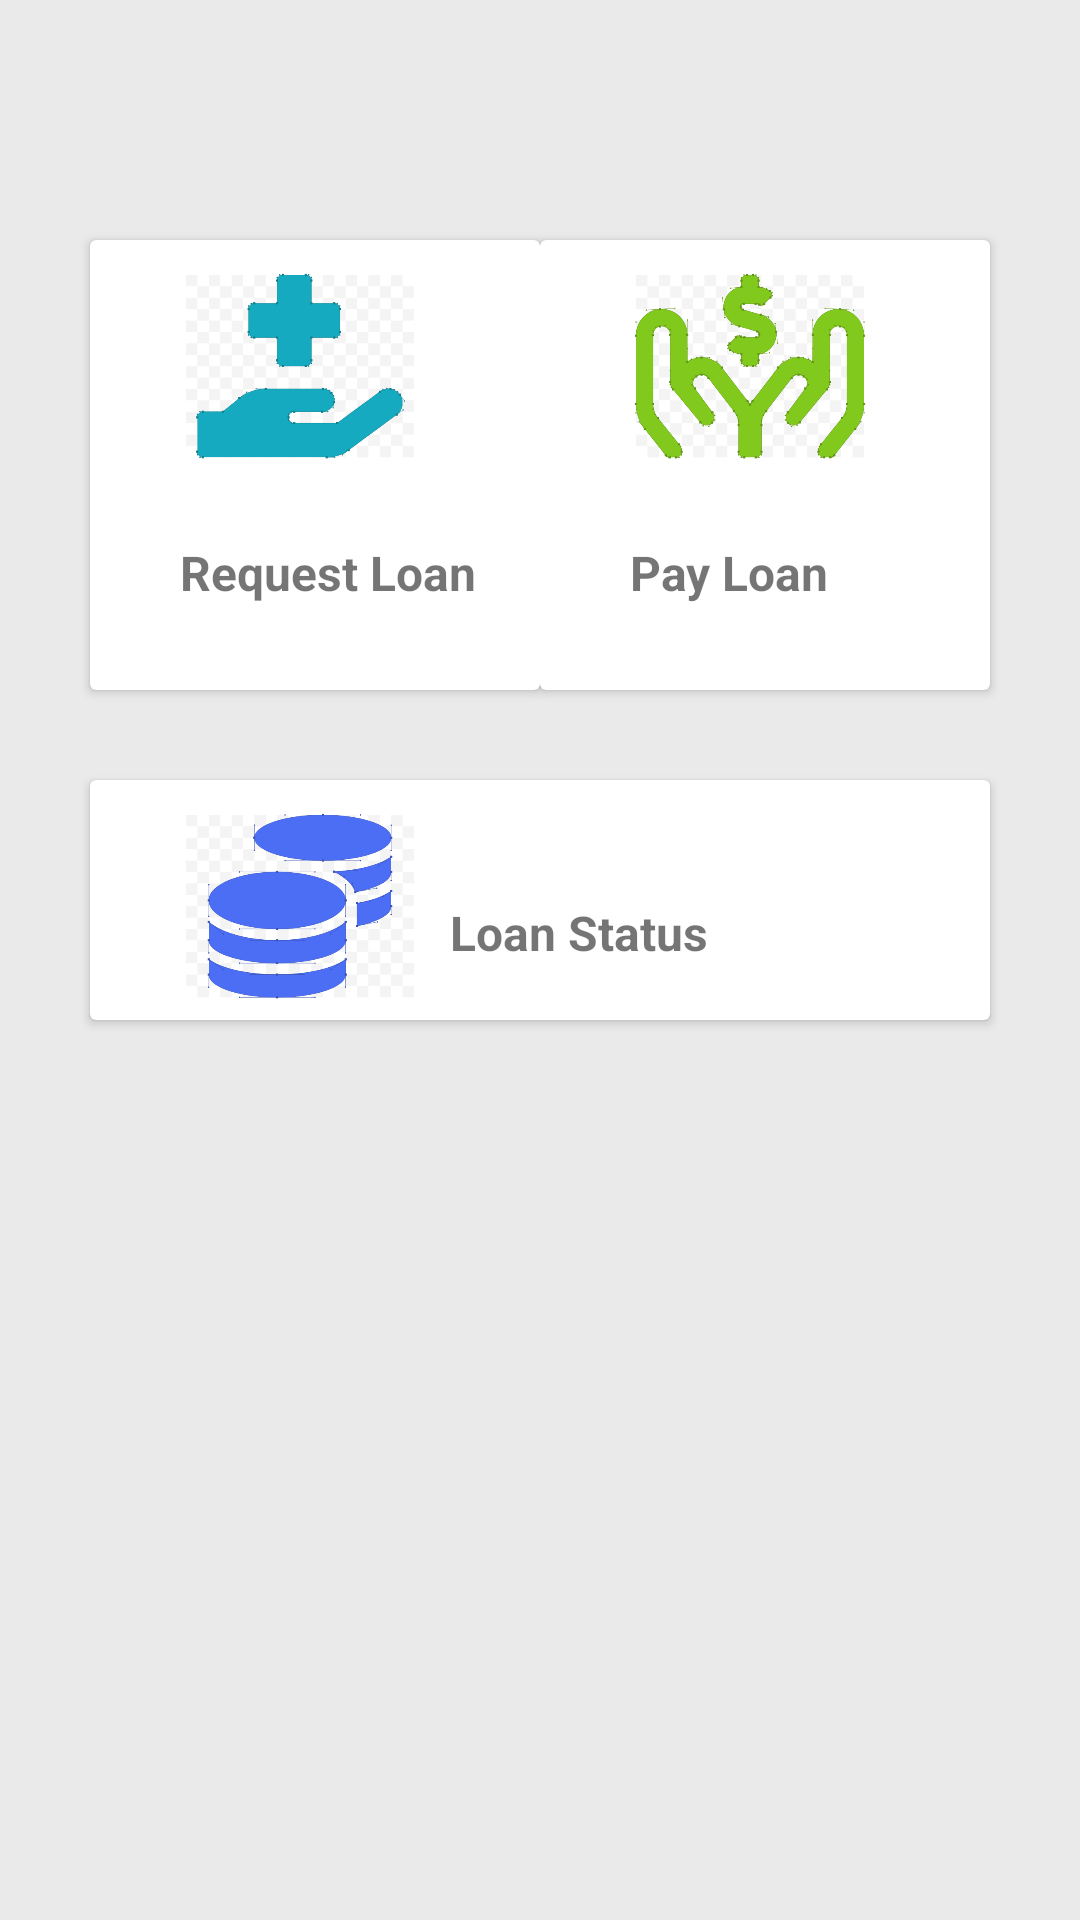

Icons on this 1080w x 1920h Android screen, each with the point to tap as [x,y]:
getloan: [300,366]
